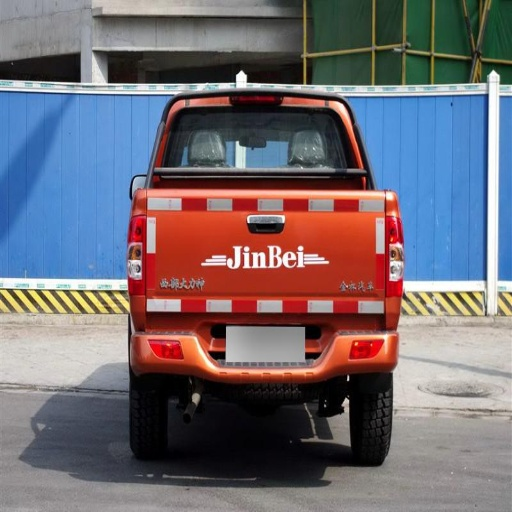back_bumper: (129, 297, 401, 392)
trunk: (146, 157, 387, 323)
